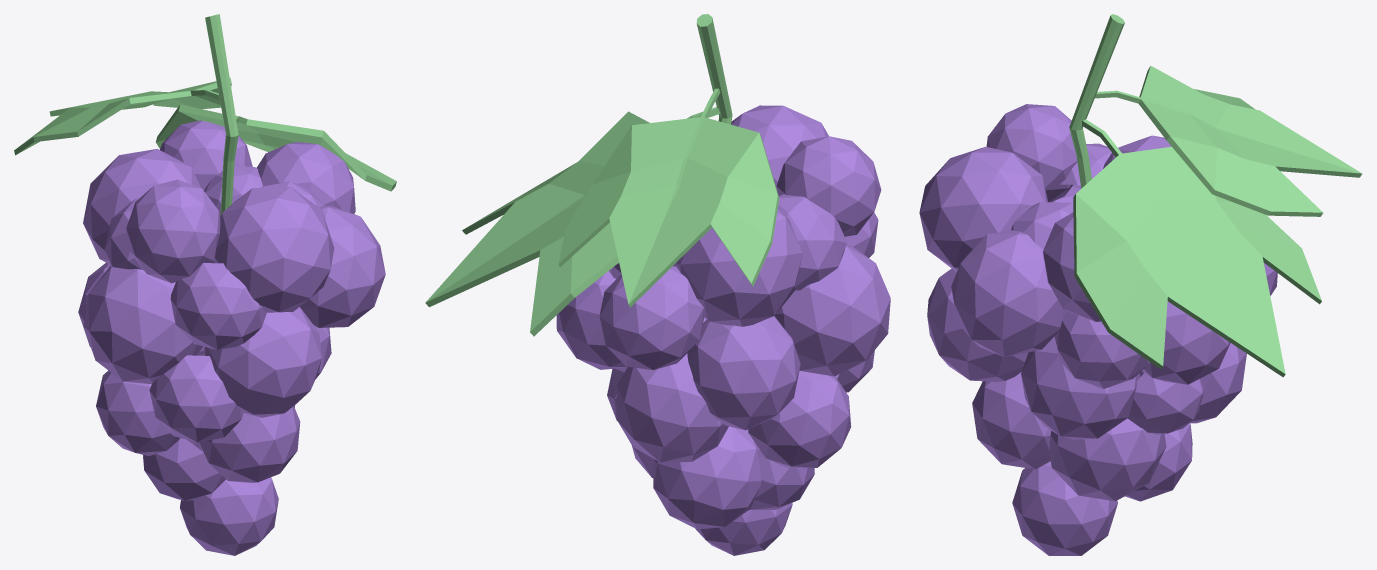
The model's file is grapes.glb.
3 renders of one model, left to right at view 1: azimuth 30°, elevation 25°; view 2: azimuth 150°, elevation 25°; view 3: azimuth 270°, elevation 25°, orthographic. The views are drawn at different scales.
Parts seen in each view (by area): view 1: node-0; view 2: node-0; view 3: node-0.
Part boxes in pixels (box(x1,y1,x2,y2)): node-0: box(14, 14, 396, 555); node-0: box(425, 14, 890, 555); node-0: box(919, 14, 1362, 555).
Size of the model in its own units: 6.95 by 9.84 by 7.28.
